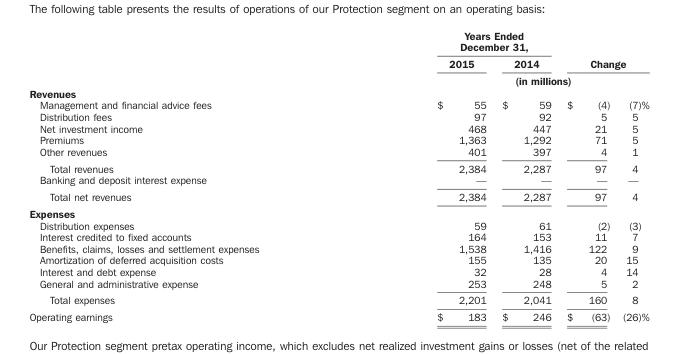table: (28, 28, 648, 322)
table column: (28, 28, 347, 322), (347, 28, 493, 322), (493, 28, 558, 322), (558, 28, 615, 322), (615, 28, 648, 322)
table column header: (28, 28, 648, 86)
table projected row header: (28, 204, 648, 218), (28, 86, 648, 98)
table row: (28, 28, 648, 54), (28, 54, 648, 71), (28, 187, 648, 204), (28, 291, 648, 308), (28, 71, 648, 86), (28, 145, 648, 159), (28, 159, 648, 173), (28, 173, 648, 187), (28, 204, 648, 218), (28, 277, 648, 291), (28, 308, 648, 322), (28, 86, 648, 98), (28, 98, 648, 110), (28, 110, 648, 122), (28, 133, 648, 145), (28, 218, 648, 230), (28, 230, 648, 242), (28, 253, 648, 265), (28, 265, 648, 277), (28, 122, 648, 133), (28, 242, 648, 253)
table spanning cell: (347, 28, 558, 54), (347, 71, 615, 86), (558, 28, 648, 71)
